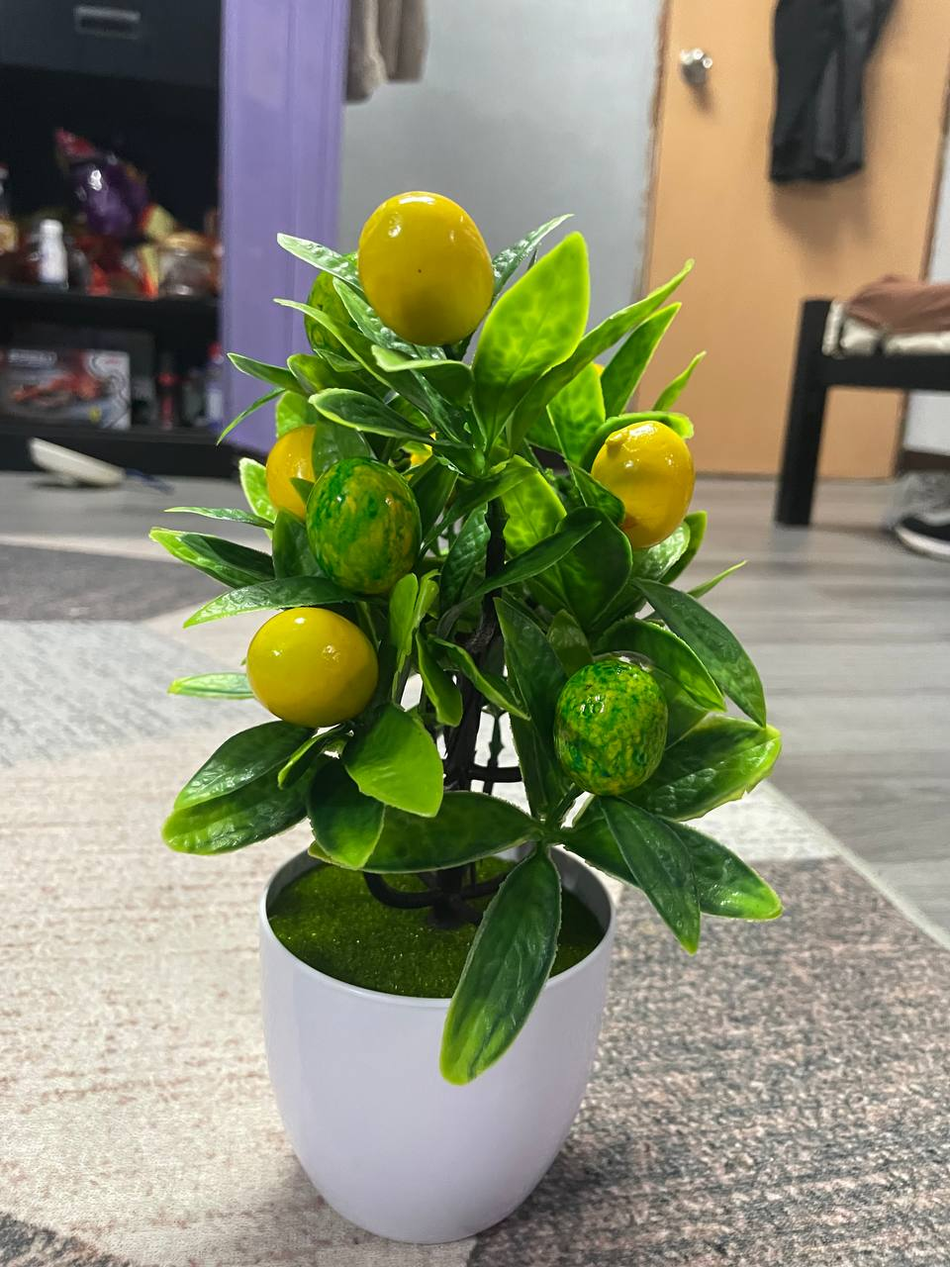lime_ripe: (355, 191, 494, 348), (244, 608, 379, 730), (591, 419, 696, 552), (266, 424, 313, 515)
lime_unripe: (305, 456, 422, 595), (554, 659, 669, 795)
